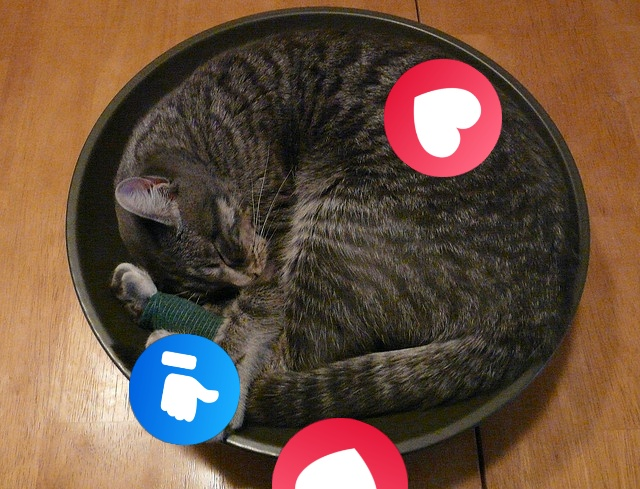like: (129, 334, 240, 445)
love: (384, 59, 502, 177), (272, 418, 408, 489)
